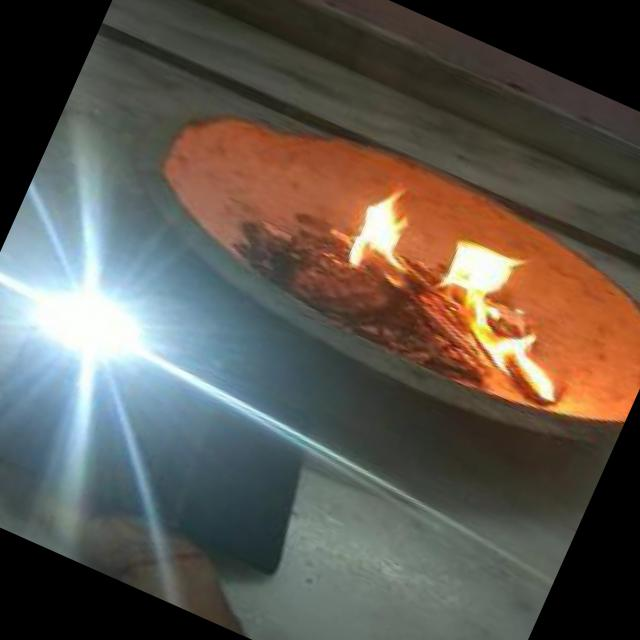fire: (313, 171, 604, 401)
